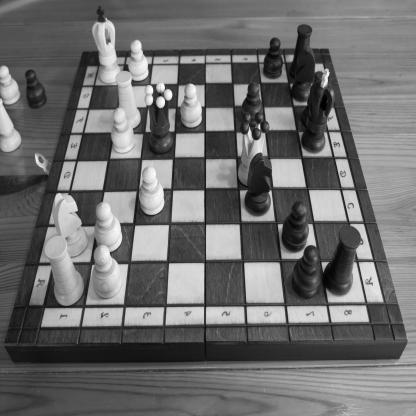black-bishop: (300, 71, 325, 128)
black-king: (301, 67, 335, 154)
black-knight: (244, 152, 272, 217), (291, 45, 316, 103)
black-pawn: (292, 244, 322, 300), (281, 200, 309, 254), (241, 81, 263, 128), (24, 68, 48, 110), (263, 36, 284, 80)
black-queen: (144, 81, 174, 155)
black-rook: (322, 224, 362, 296), (290, 23, 313, 78)
white-bishop: (0, 98, 23, 152)
white-king: (92, 5, 121, 84)
white-knight: (52, 192, 89, 258)
white-pawn: (92, 244, 122, 299), (94, 201, 123, 253), (138, 165, 165, 216), (111, 107, 135, 154), (180, 83, 202, 129), (128, 39, 149, 82), (1, 65, 21, 106)
white-queen: (237, 111, 270, 187)
white-rook: (44, 234, 84, 307), (115, 70, 141, 129)
